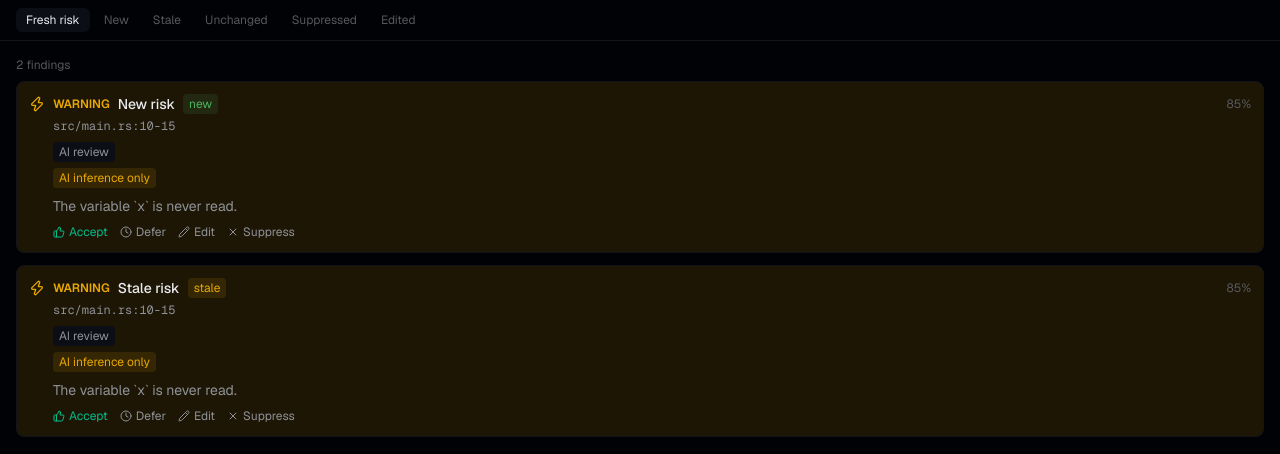
SignalBoard › defaults reruns to Fresh risk and hides unchanged findings
Expected: the text "New risk" is shown, x1=118 y1=94 x2=175 y2=114
Expected: the text "Stale risk" is shown, x1=118 y1=278 x2=180 y2=298
Click the button "Unchanged" at (236, 20), box x1=195 y1=8 x2=278 y2=32
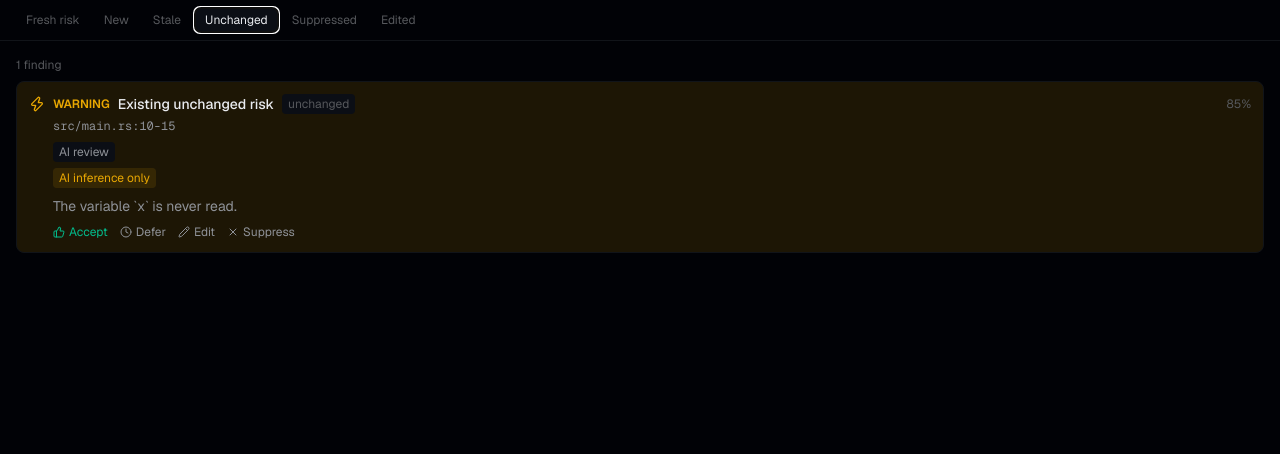
Now the text "Existing unchanged risk" is shown, box x1=118 y1=94 x2=274 y2=114
